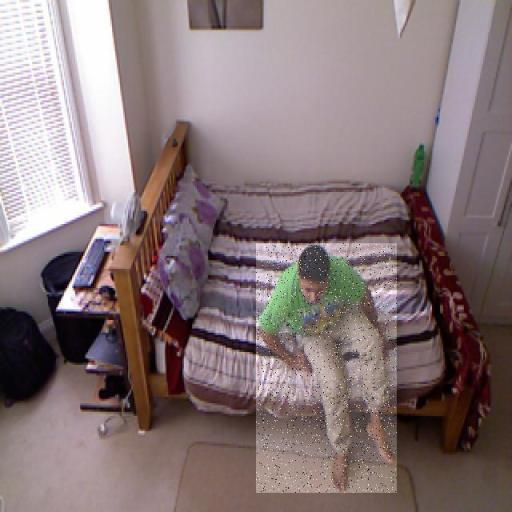Fall: (256, 243, 397, 493)
